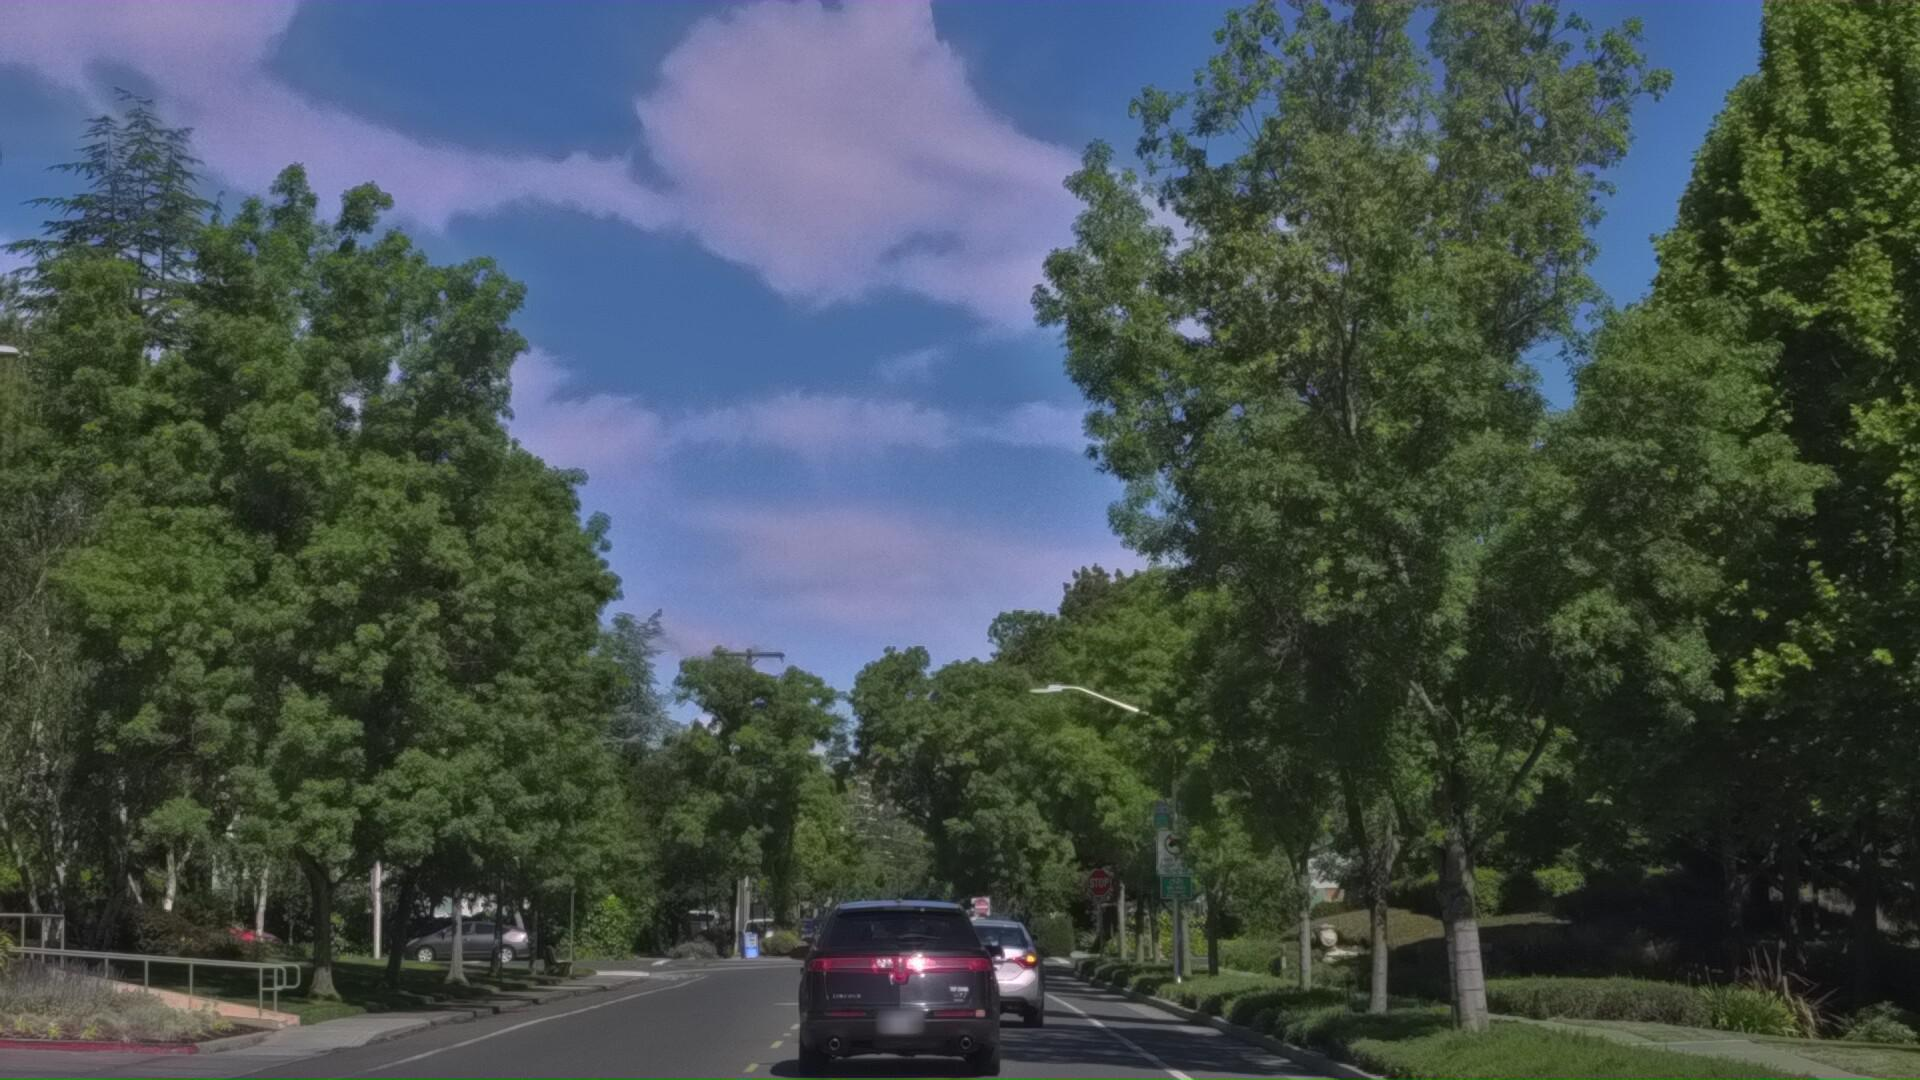car: (786, 985, 1011, 1080), (913, 1011, 1056, 1080), (931, 998, 1035, 1080)
